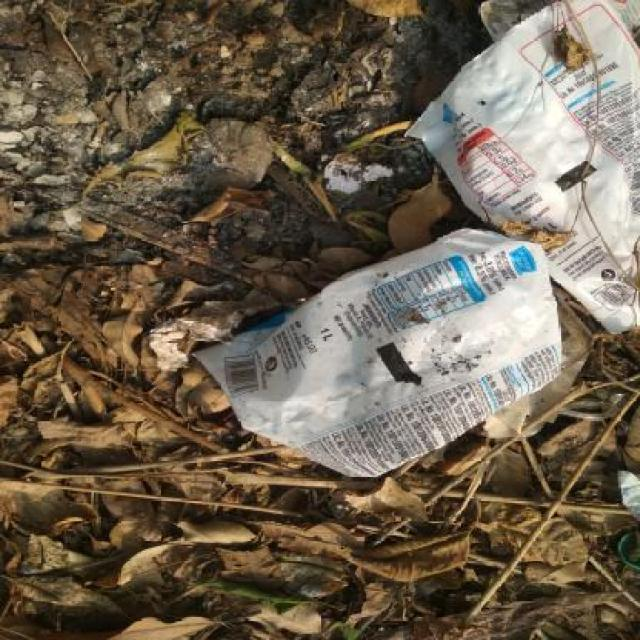garbage: (3, 3, 637, 482), (15, 489, 630, 630)
